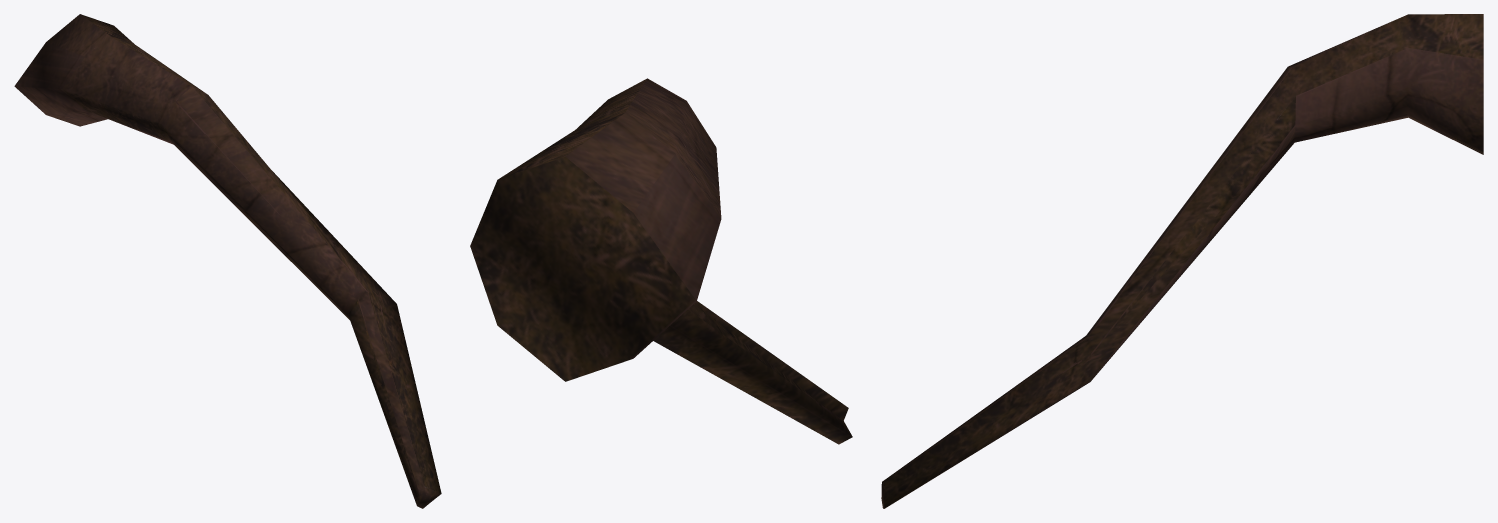
The model's file is Gras_2.fbx.
3 views of the same model, side by side, from view 1: azimuth 30°, elevation 25°; view 2: azimuth 150°, elevation 25°; view 3: azimuth 270°, elevation 25° (orthographic). The views are drawn at different scales.
Visible parts, largest first — view 1: Gras_2; view 2: Gras_2; view 3: Gras_2.
Part boxes in pixels (<box>): Gras_2: <box>14,14,441,508</box>; Gras_2: <box>470,78,852,444</box>; Gras_2: <box>881,14,1483,508</box>.
Size of the model in its own units: 0.3891 by 0.5672 by 0.7169.
1 material, 1 textured.
